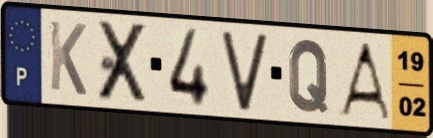4: (167, 25, 213, 111)
A: (335, 40, 393, 123)
K: (47, 17, 89, 99)
Q: (286, 37, 331, 116)
V: (219, 30, 270, 113)
X: (95, 19, 151, 105)
